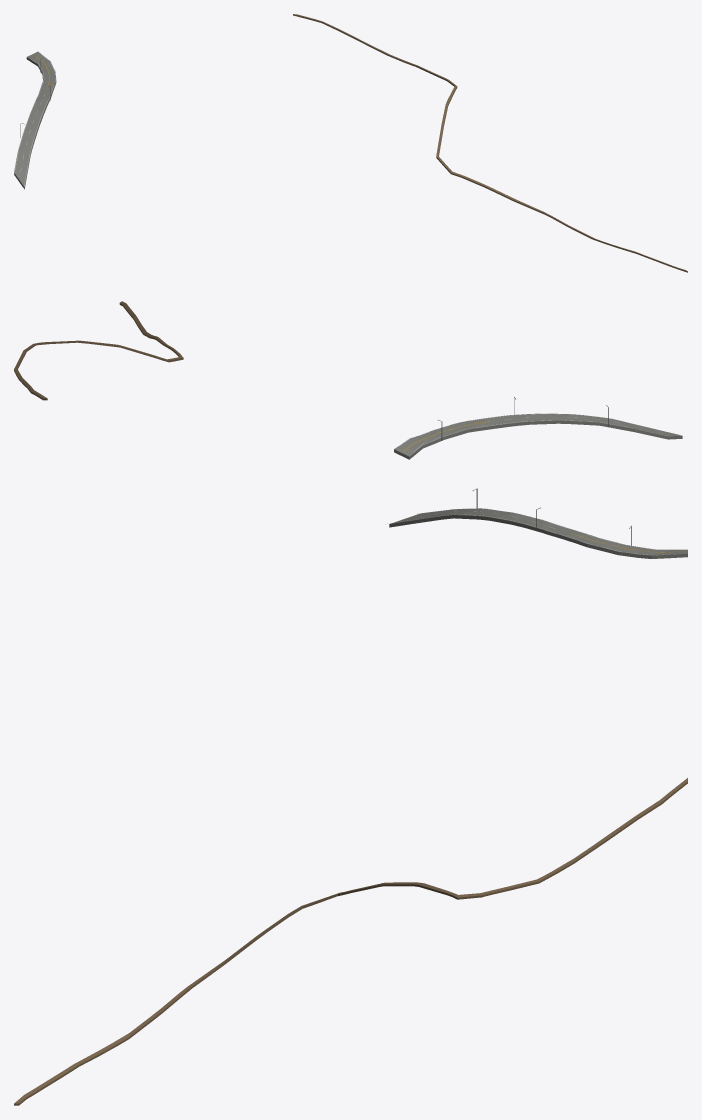
File: 17-109459-59451.6efb8ae0.glb
3 renders of one model, top to bottom at view 1: azimuth 30°, elevation 25°; view 2: azimuth 150°, elevation 25°; view 3: azimuth 270°, elevation 25°, orthographic. The views are drawn at different scales.
Bounding box in the file's own units: 295 × 89.28 × 212.
